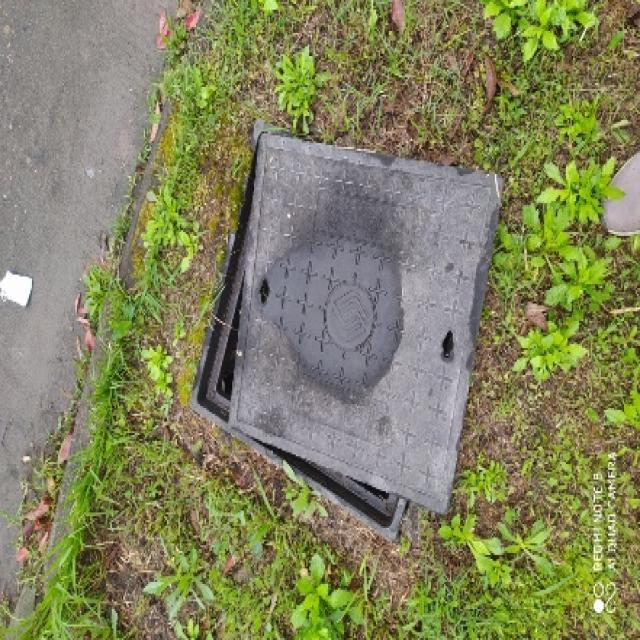Faulty: (173, 96, 512, 558)
